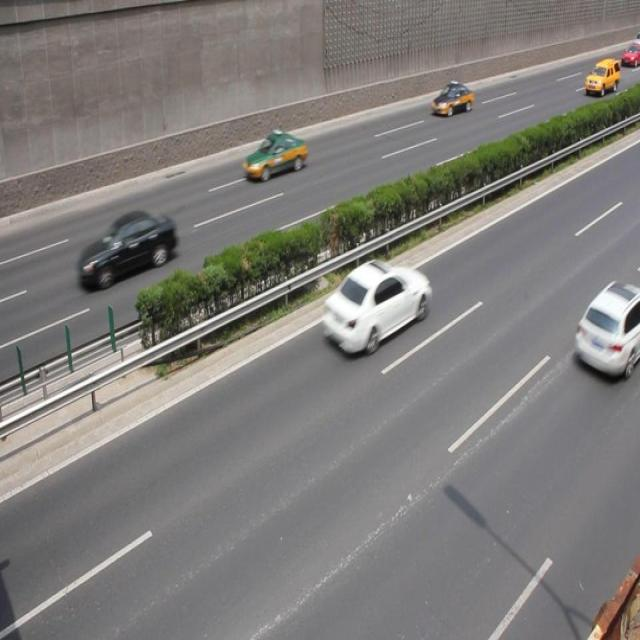car: (321, 258, 431, 356), (79, 207, 176, 291), (572, 284, 640, 379), (243, 130, 306, 182), (430, 81, 472, 117), (583, 56, 618, 96)
